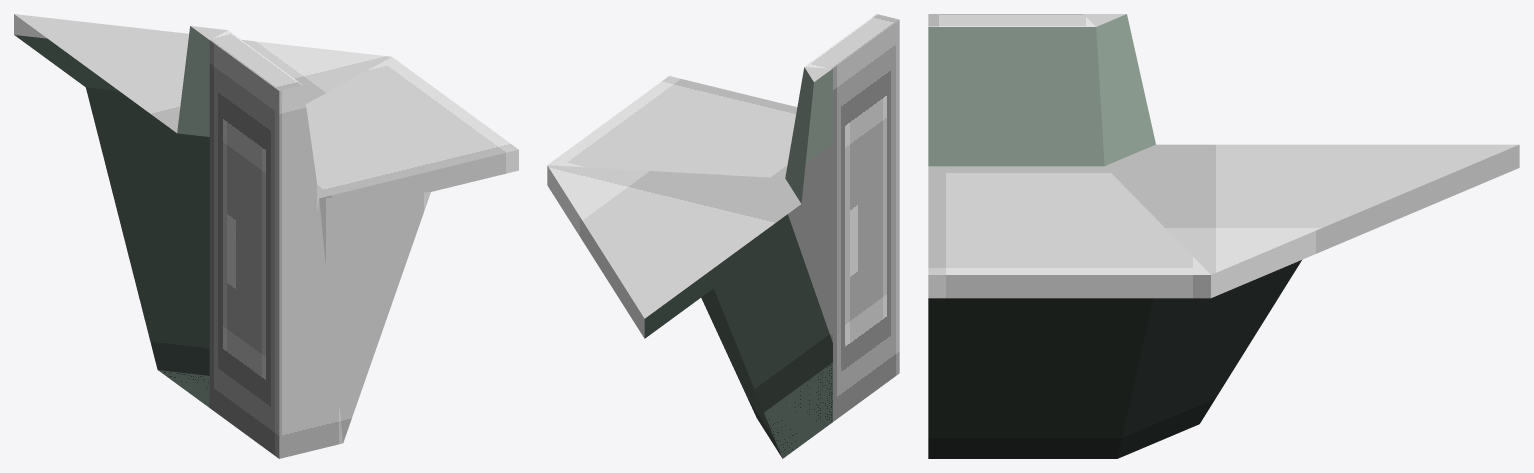
The model's file is run_desk_outside_bend_b_item.obj.
3 views of the same model, side by side, from view 1: azimuth 30°, elevation 25°; view 2: azimuth 150°, elevation 25°; view 3: azimuth 270°, elevation 25° (orthographic). The views are drawn at different scales.
Bounding box in the file's own units: 0.75 × 1.1 × 1.44.
